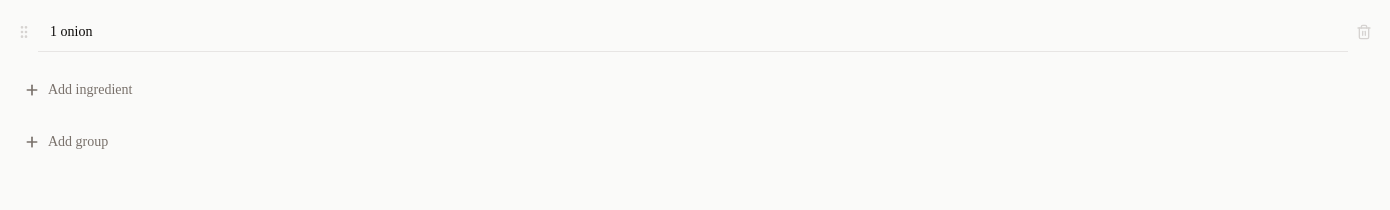
Test: IngredientsEditor › adds an ingredient to the bottom of the list
Click the button "Add ingredient" at coordinates (90, 90), box [12,68,1378,112]
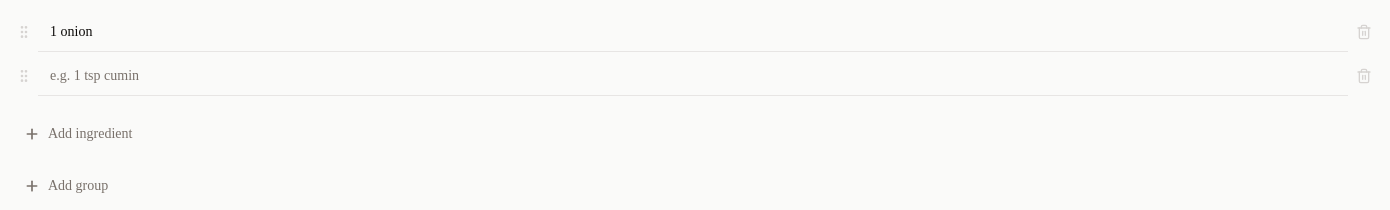
Expected: the number of fields named "Ingredient" is 2, [38,12,1348,52]; [38,56,1348,96]
